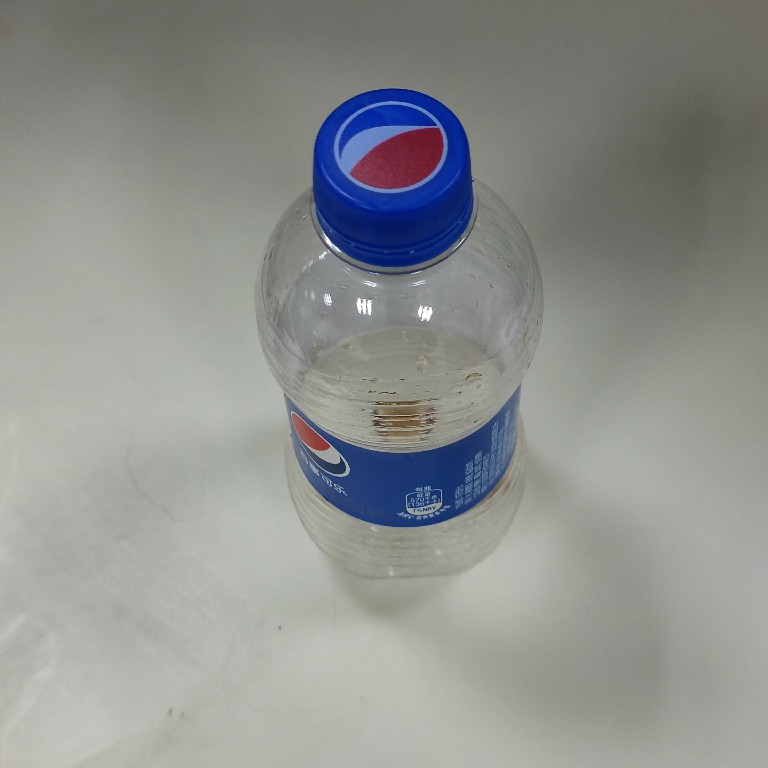bottle: (249, 83, 547, 588)
